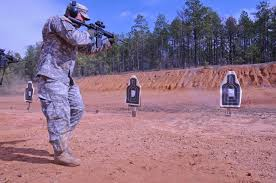gun: (63, 13, 116, 51)
